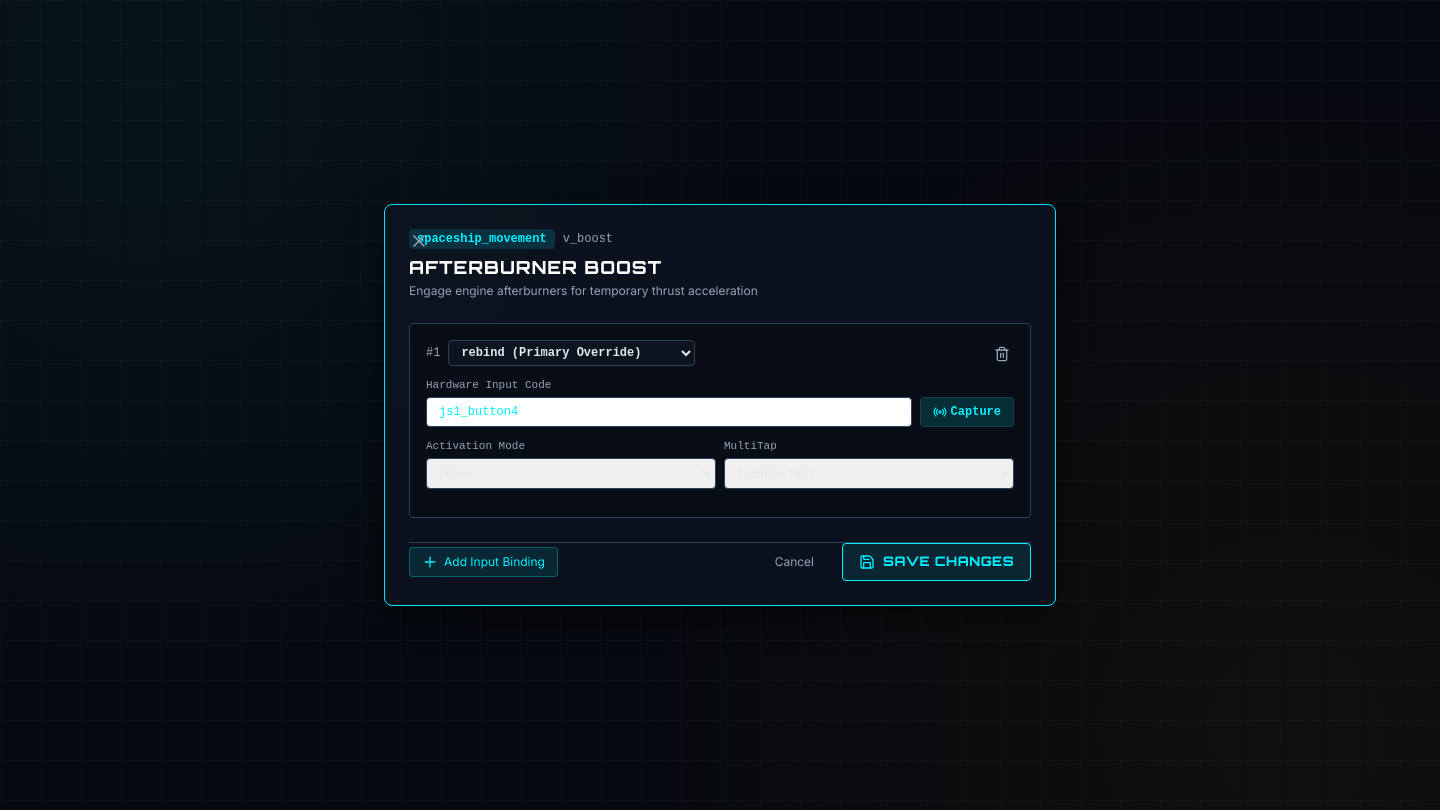
BindingEditorModal Component › toggles capture button off if clicked a second time
This screenshot has width=1440, height=810.
Click the button "Capture": (967, 412) [920,397,1014,427]
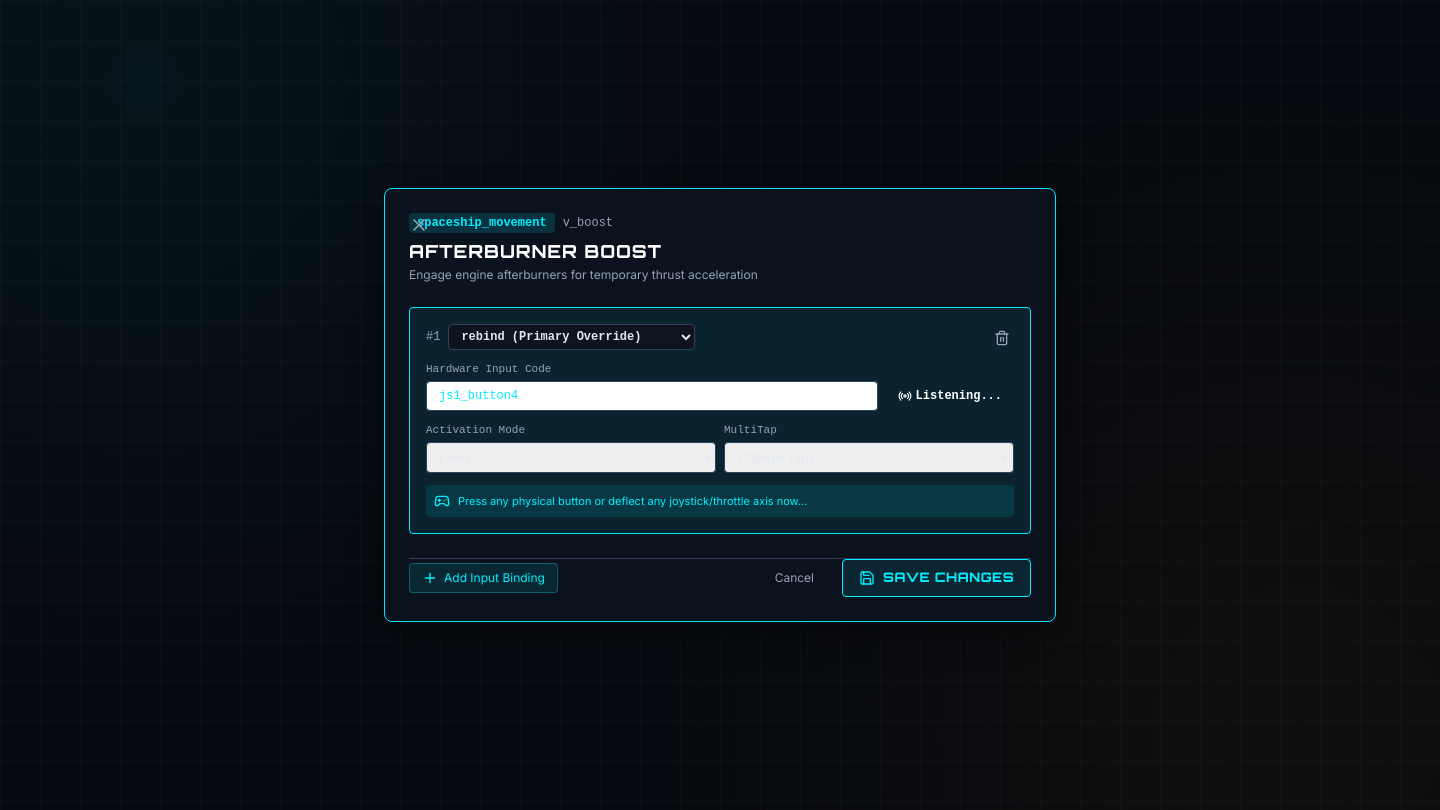
Expected: the button "Listening..." is shown
// Click again to cancel capture
Click the button "Listening...": (950, 396) [886,381,1014,411]
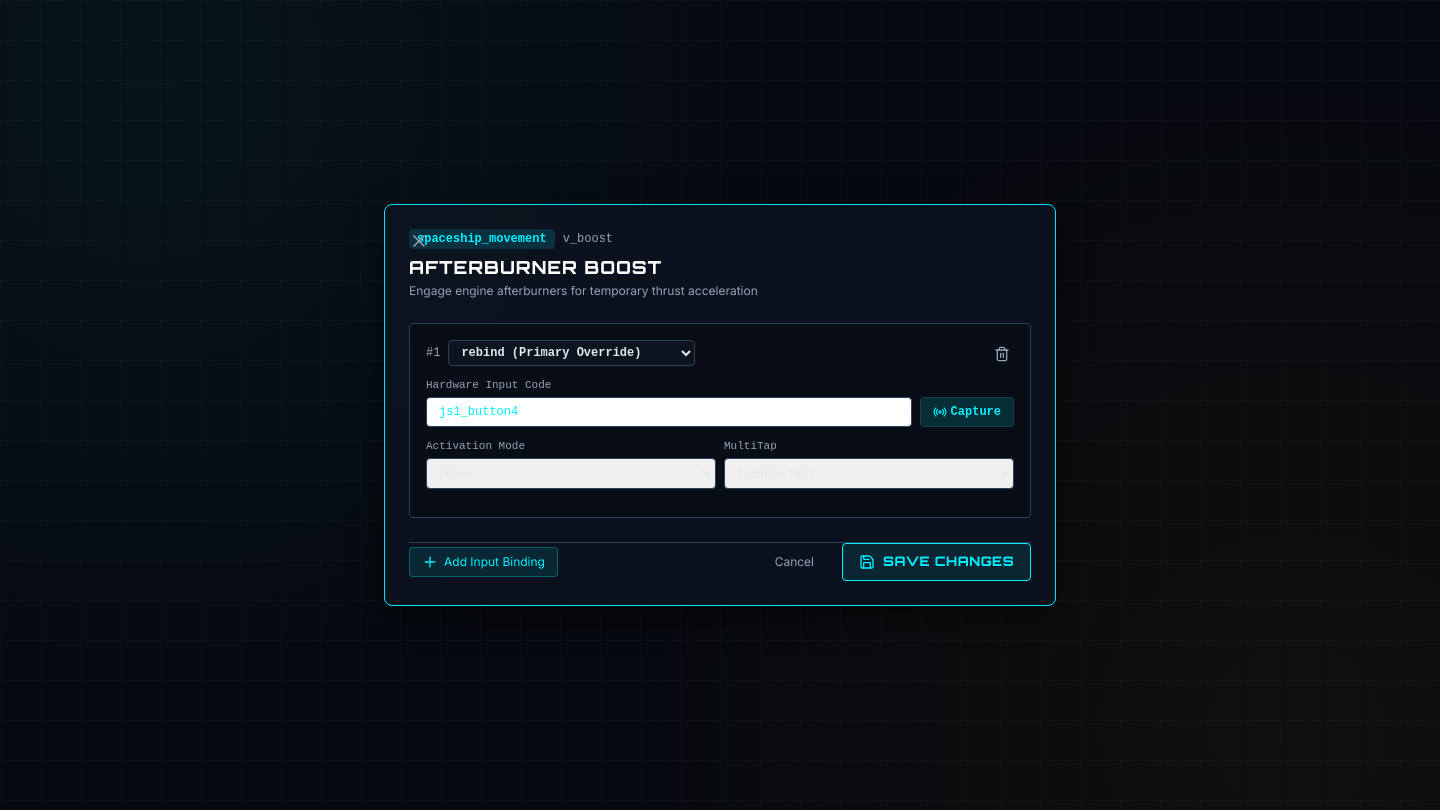
Expected: the button "Capture" is shown, [920,397,1014,427]
